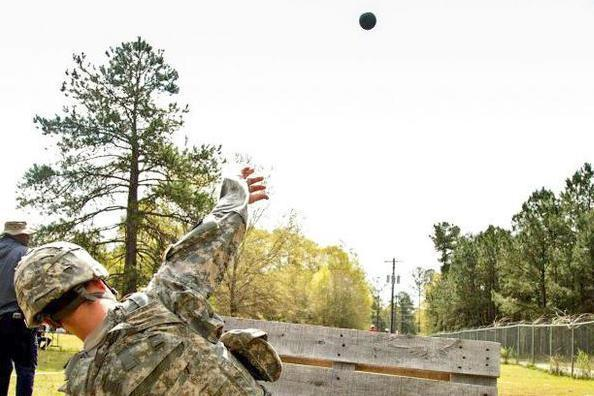Grenade: (358, 12, 377, 33)
